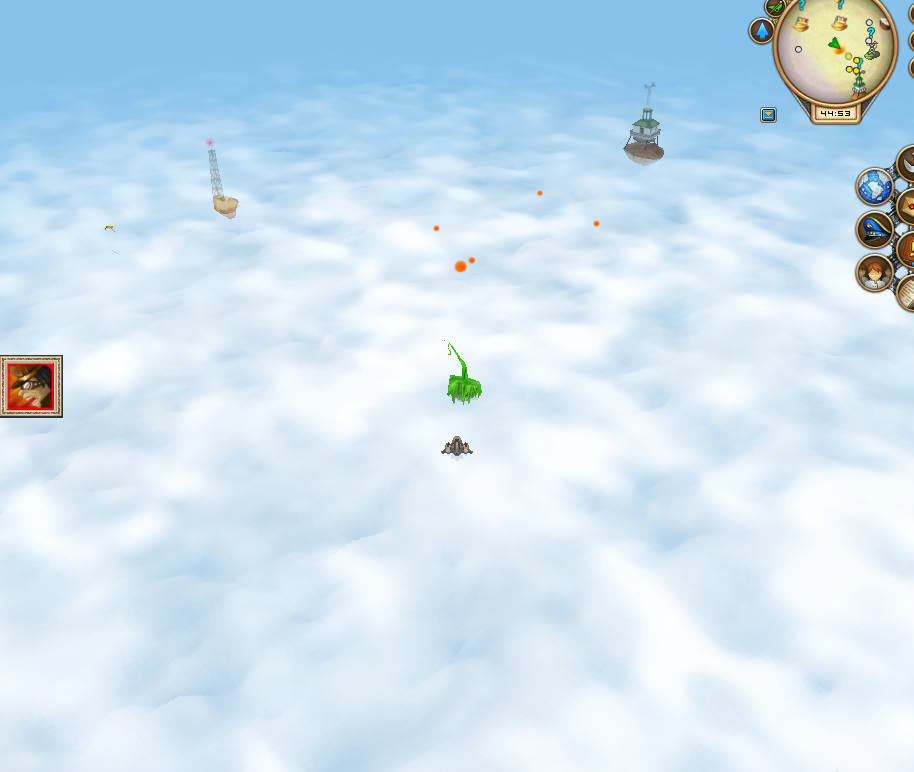dandelion-empty: (438, 339, 486, 403)
fluff: (453, 258, 468, 275), (587, 218, 604, 228), (534, 187, 547, 199), (465, 254, 478, 265), (431, 222, 441, 234)
